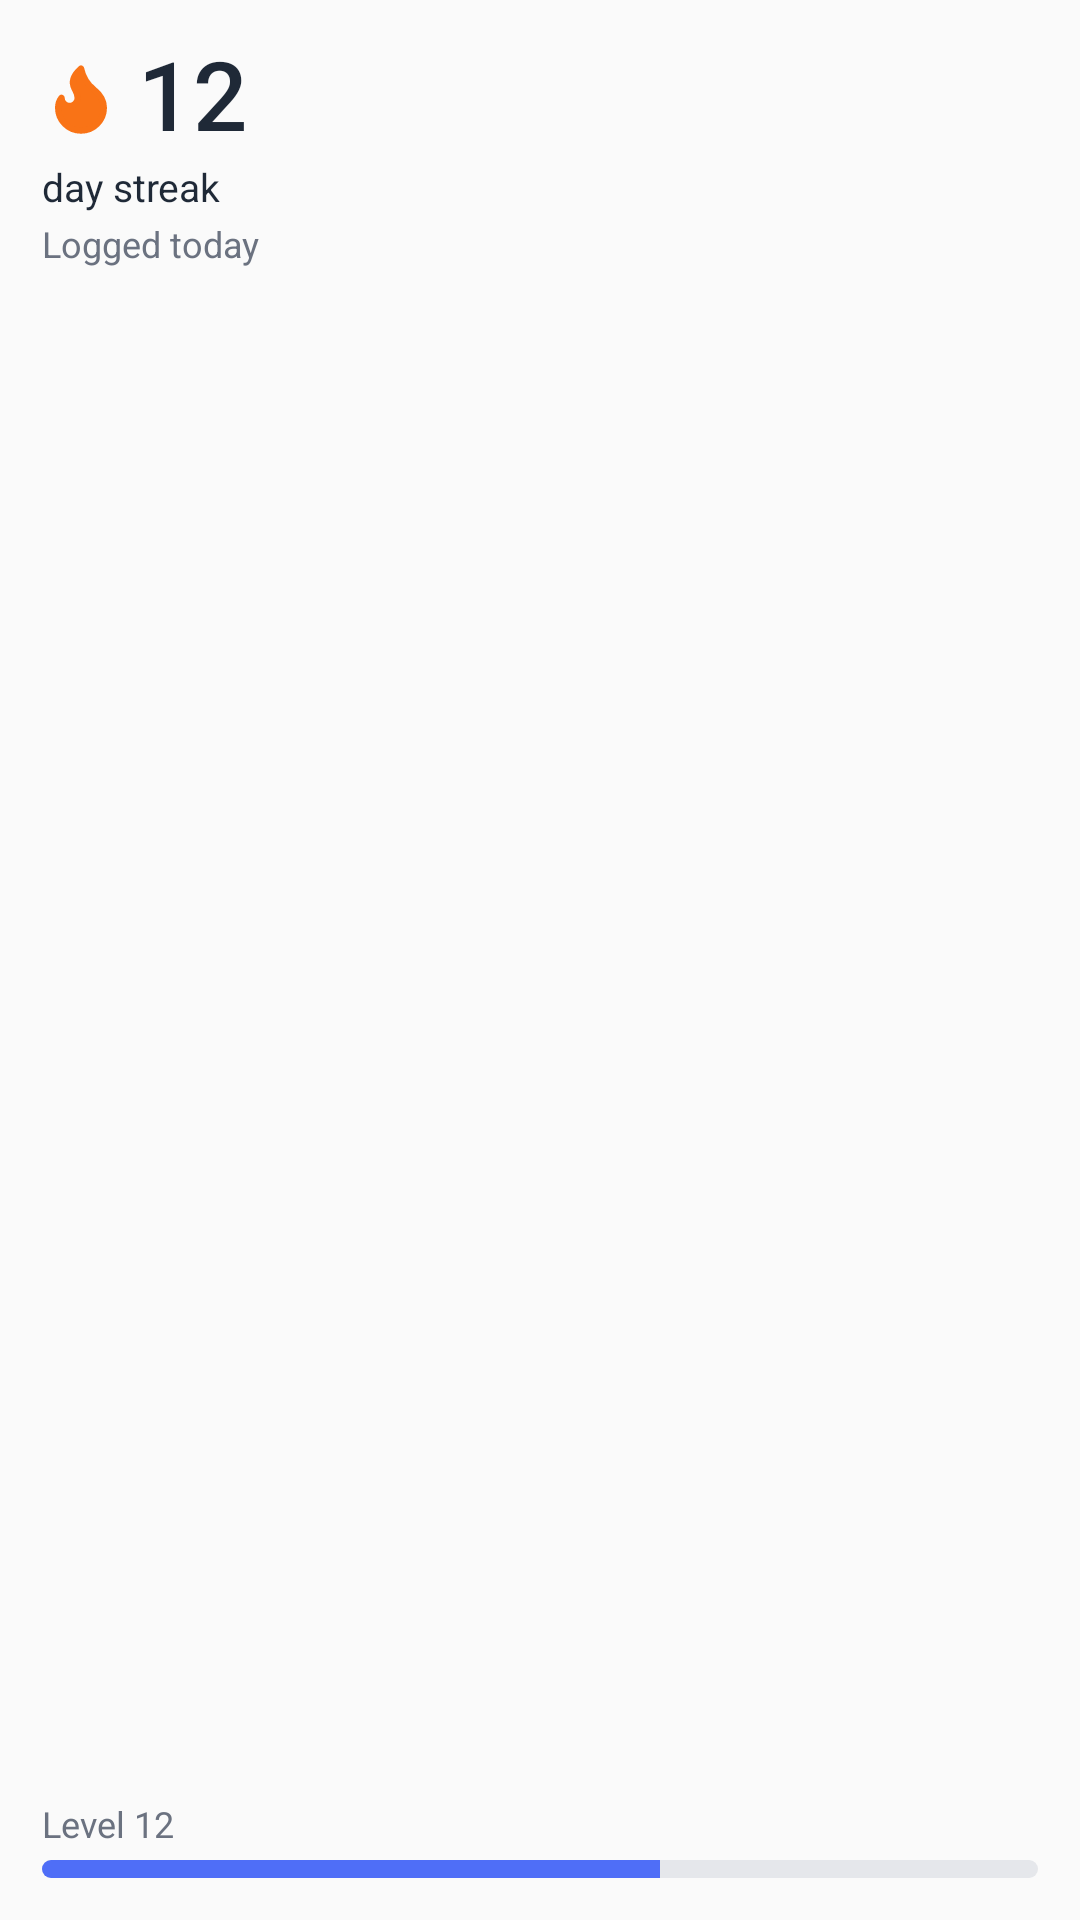

Icons on this 1080*1920 Android screen, each with its box as {"x1": x1, "y1": y1, "x2": x2, "y2": y2}:
widget flame: {"x1": 55, "y1": 65, "x2": 107, "y2": 134}
